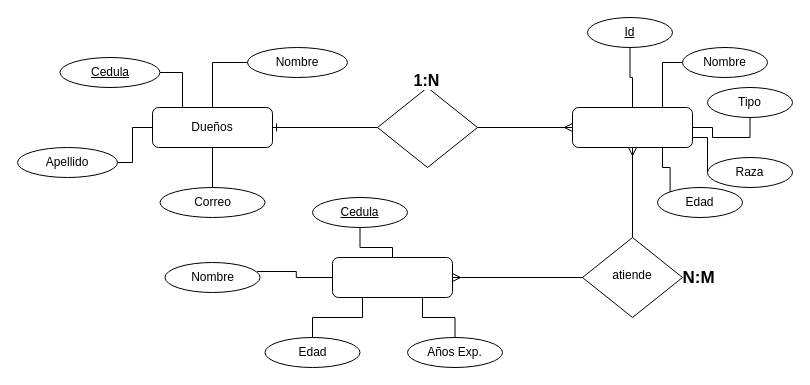
Image size: 810x385. Some labels were removed from this diagram. Each missing label, with the box of its shape:
Macotas: (572, 106, 692, 148)
tiene: (376, 86, 478, 168)
Veterinarios: (332, 256, 452, 298)
